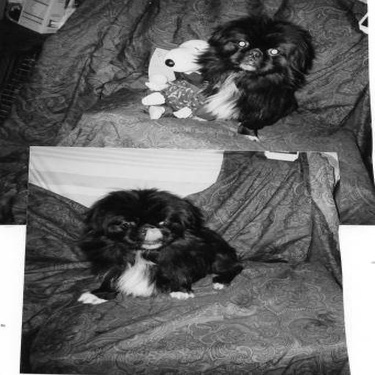dog: (79, 173, 246, 312), (151, 14, 323, 135)
